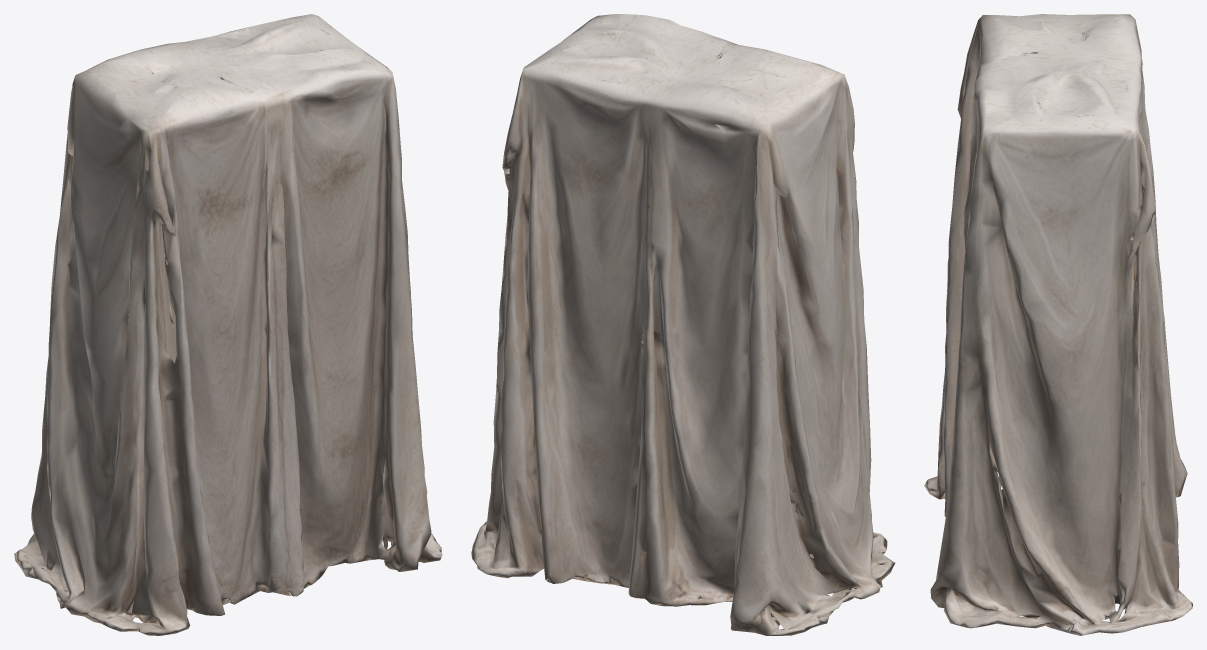
The model's file is VAR_DollRoom_SheetTall.fbx.
3 views of the same model, side by side, from view 1: azimuth 30°, elevation 25°; view 2: azimuth 150°, elevation 25°; view 3: azimuth 270°, elevation 25° (orthographic).
Parts seen in each view (by area): view 1: texture_mapping; view 2: texture_mapping; view 3: texture_mapping.
Boxes of the visible parts, box(x1,y1,x2,y2) form: texture_mapping: box(14, 14, 442, 635); texture_mapping: box(471, 14, 895, 635); texture_mapping: box(924, 14, 1192, 635).
Bounding box in the file's own units: 0.7649 × 0.4943 × 1.
1 material, 1 textured.
